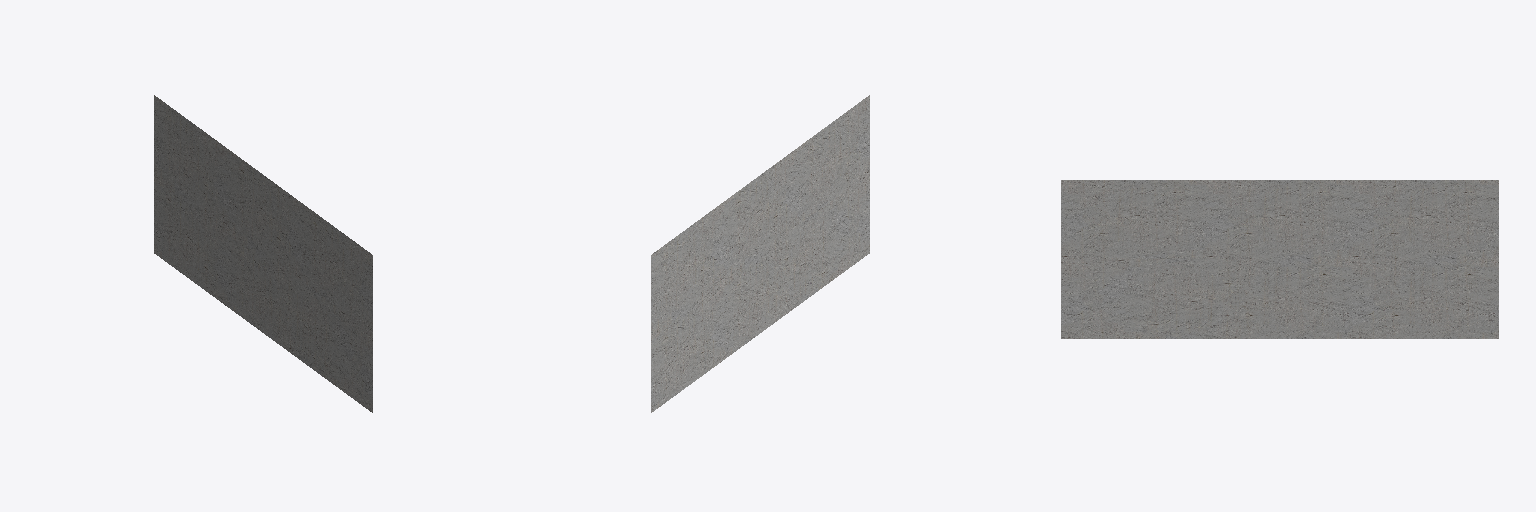
3 renders of one model, left to right at view 1: azimuth 30°, elevation 25°; view 2: azimuth 150°, elevation 25°; view 3: azimuth 270°, elevation 25°, orthographic.
Parts seen in each view (by area): view 1: Cube; view 2: Cube; view 3: Cube.
Part boxes in pixels (x1,y1,x2,y2): Cube: (154, 95, 372, 412); Cube: (651, 95, 869, 412); Cube: (1061, 180, 1498, 338).
Bounding box in the file's own units: 0.5 × 5 × 12.5.
1 materials, 1 textured.